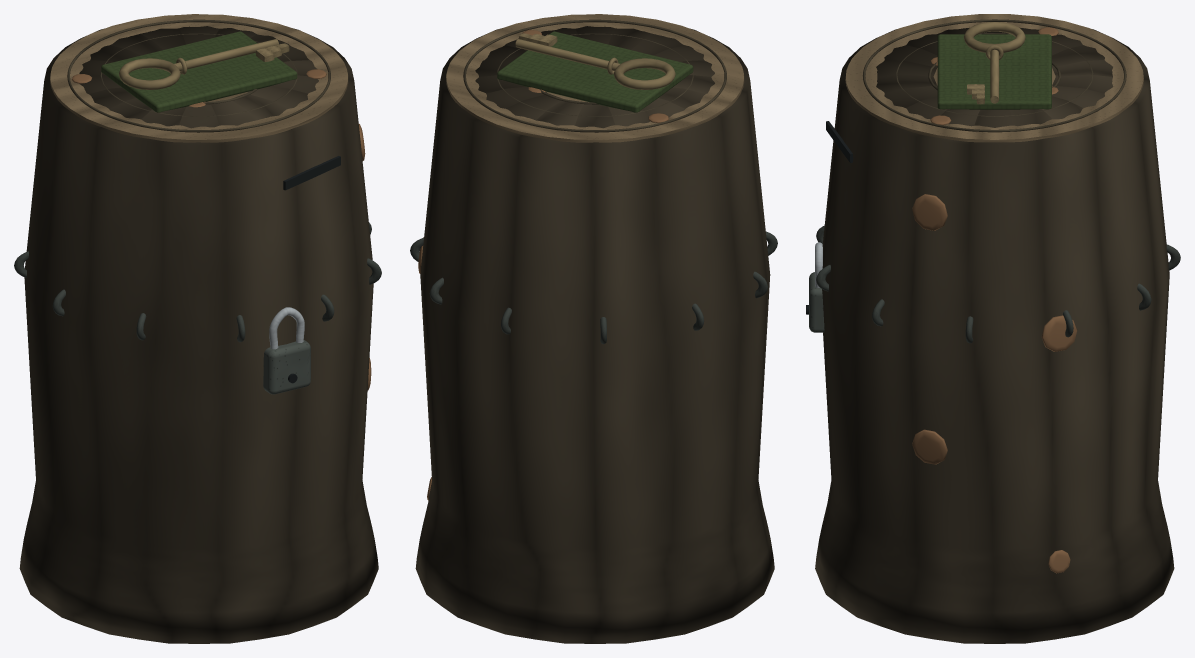
The picture shows the model from 3 angles, left to right: view 1: azimuth 30°, elevation 25°; view 2: azimuth 150°, elevation 25°; view 3: azimuth 270°, elevation 25°; orthographic projection.
Parts seen in each view (by area): view 1: rough bark timber, sawn end-grain timber, velvet cushion, aged brass fittings, hardwood bevel and dark grain, forged iron, blackened strap iron, recesses, machined steel; view 2: rough bark timber, sawn end-grain timber, velvet cushion, aged brass fittings, hardwood bevel and dark grain, blackened strap iron; view 3: rough bark timber, sawn end-grain timber, velvet cushion, drawbore peg, hardwood bevel and dark grain, aged brass fittings, blackened strap iron, forged iron.
Boxes of the visible parts, x1,y1,x2,y2 form: rough bark timber: [19, 26, 378, 643]; sawn end-grain timber: [50, 14, 348, 142]; velvet cushion: [101, 31, 297, 112]; aged brass fittings: [119, 39, 289, 89]; hardwood bevel and dark grain: [67, 19, 330, 132]; forged iron: [263, 340, 310, 394]; blackened strap iron: [14, 222, 381, 342]; recesses: [283, 156, 340, 383]; machined steel: [269, 307, 304, 349]; rough bark timber: [415, 26, 774, 643]; sawn end-grain timber: [446, 14, 744, 142]; velvet cushion: [497, 31, 693, 112]; aged brass fittings: [515, 33, 675, 89]; hardwood bevel and dark grain: [463, 19, 726, 132]; blackened strap iron: [410, 231, 777, 344]; rough bark timber: [815, 27, 1174, 643]; sawn end-grain timber: [845, 14, 1143, 142]; velvet cushion: [937, 34, 1051, 109]; drawbore peg: [912, 194, 1077, 573]; hardwood bevel and dark grain: [862, 19, 1126, 132]; aged brass fittings: [963, 22, 1025, 104]; blackened strap iron: [816, 225, 1180, 343]; forged iron: [809, 272, 824, 332].
Size of the model in its own units: 0.4514 by 0.7009 by 0.459.
Materials: 11 (8 with a texture image).
